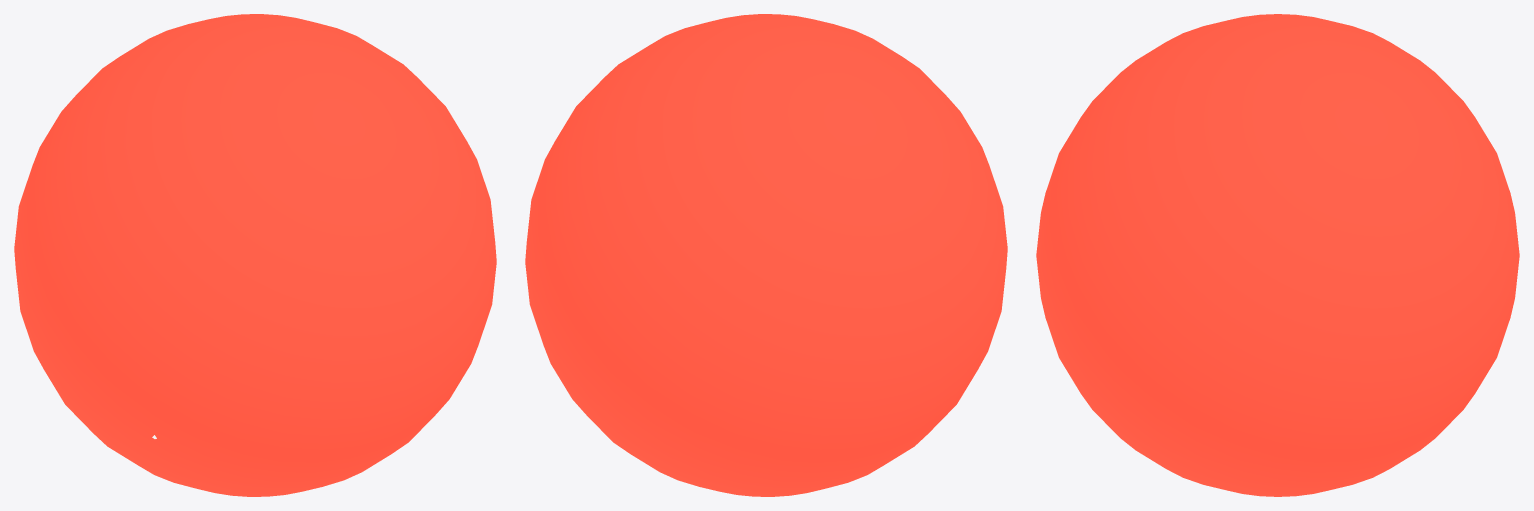
File: desmatamento.glb
The picture shows the model from 3 angles, left to right: view 1: azimuth 30°, elevation 25°; view 2: azimuth 150°, elevation 25°; view 3: azimuth 270°, elevation 25°; orthographic projection.
Visible parts, largest first — view 1: Sphere.016; view 2: Sphere.016; view 3: Sphere.016.
Boxes of the visible parts, x1,y1,x2,y2 form: Sphere.016: (14,14,496,496); Sphere.016: (525,14,1007,496); Sphere.016: (1036,14,1519,496).
Bounding box in the file's own units: 5.15 × 5.15 × 5.15.
